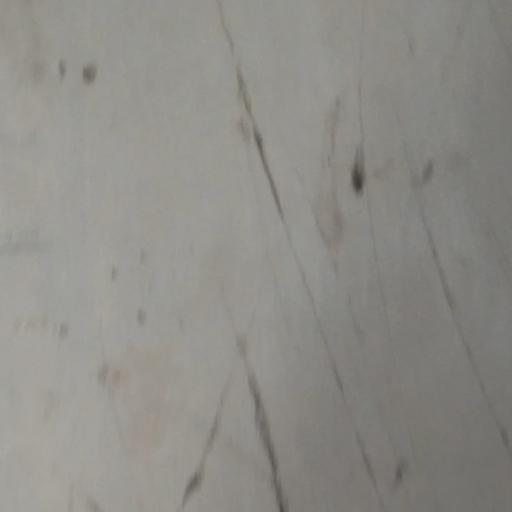stain: (163, 0, 512, 512), (13, 26, 164, 384)
